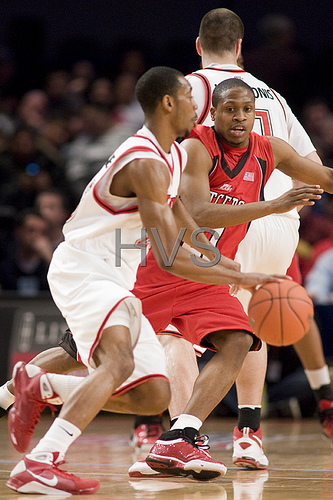basketball: (248, 278, 313, 344)
